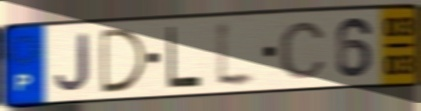6: (334, 15, 375, 80)
C: (276, 20, 329, 81)
D: (97, 27, 150, 96)
J: (53, 32, 92, 93)
L: (214, 17, 261, 92), (165, 24, 203, 90)
